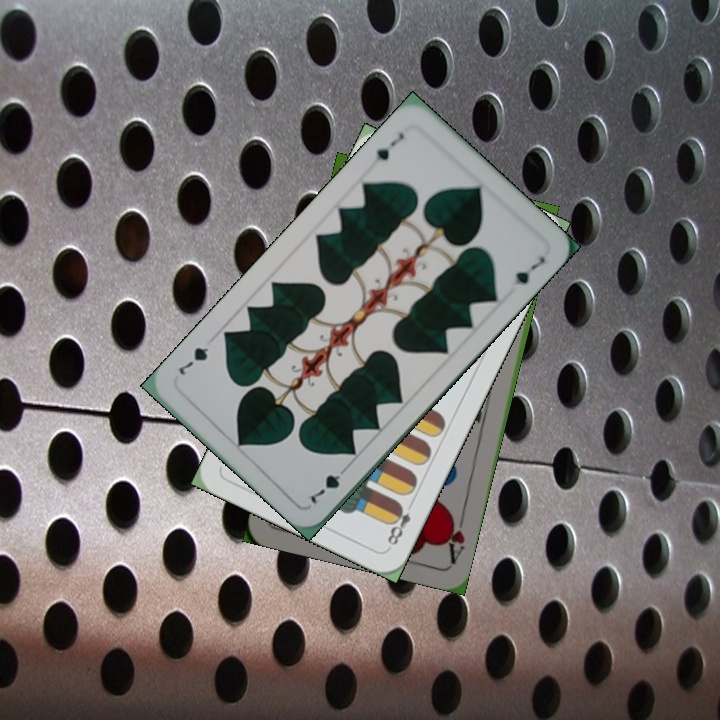E8: (383, 496, 417, 551)
G7: (306, 461, 352, 507), (372, 128, 407, 163)
HA: (440, 507, 468, 566)
